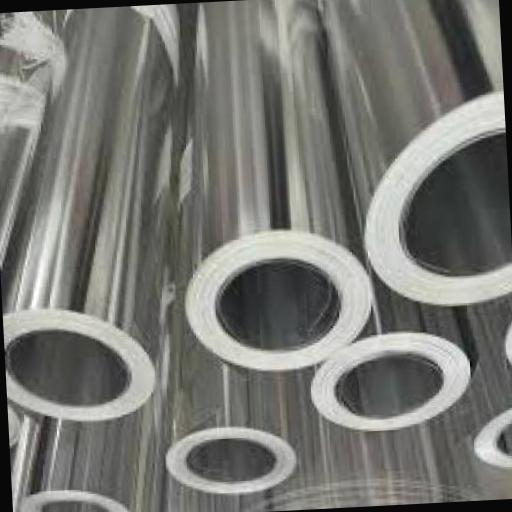metal: (0, 6, 191, 428), (167, 0, 376, 379), (148, 76, 303, 501), (318, 0, 512, 317), (301, 270, 483, 440), (22, 409, 143, 512), (462, 287, 512, 474)
